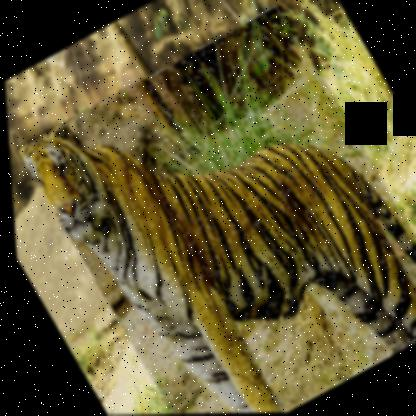Panthera tigris: (6, 2, 415, 415)
